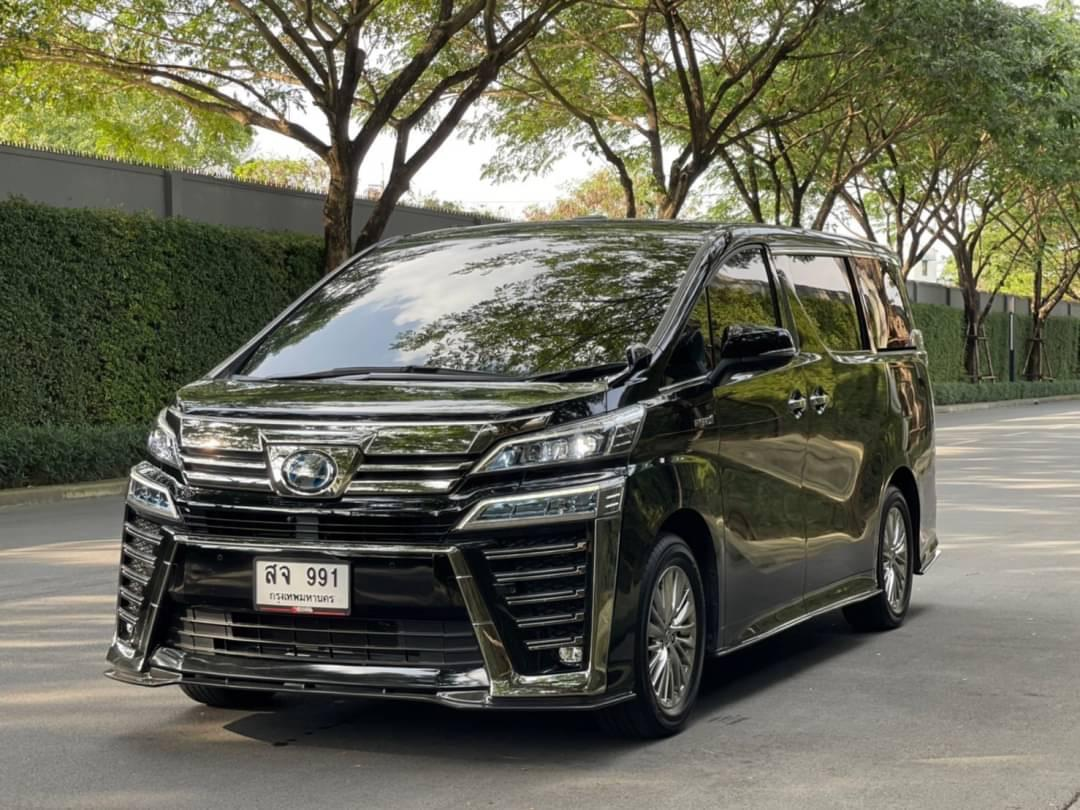license-plate: (250, 556, 353, 618)
